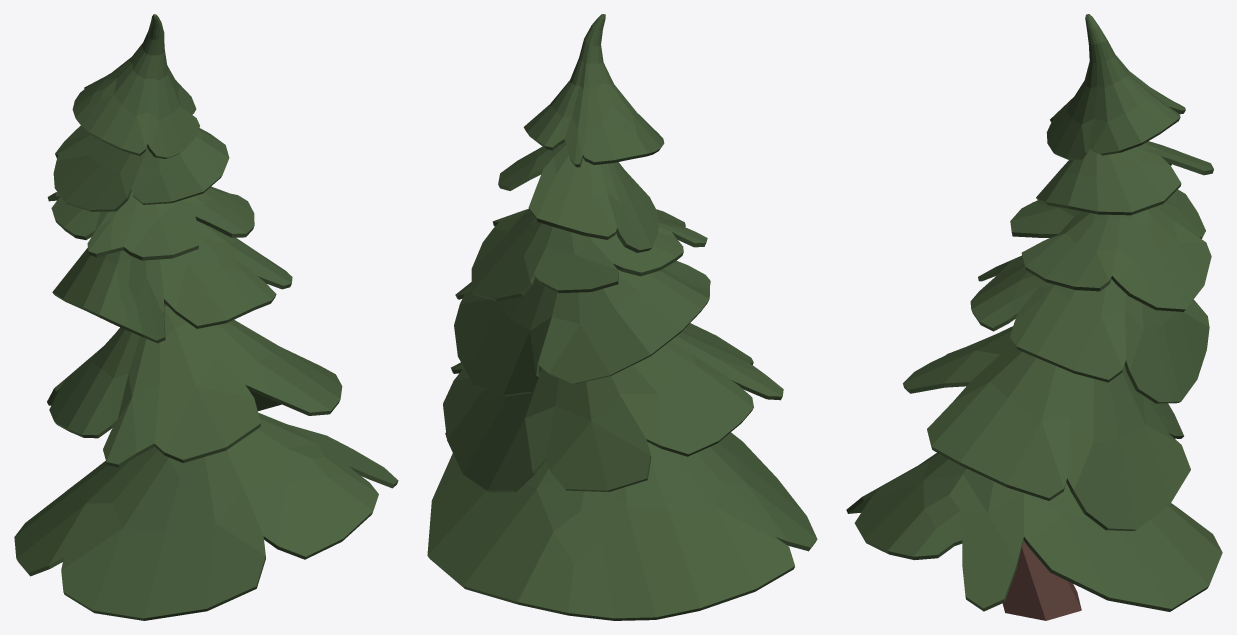
Rendered from pine-3.glb.
3 renders of one model, left to right at view 1: azimuth 30°, elevation 25°; view 2: azimuth 150°, elevation 25°; view 3: azimuth 270°, elevation 25°, orthographic. The views are drawn at different scales.
Parts seen in each view (by area): view 1: PineTree_3; view 2: PineTree_3; view 3: PineTree_3.
Part boxes in pixels (bbox=[...]): PineTree_3: bbox=[14, 14, 398, 620]; PineTree_3: bbox=[427, 14, 817, 620]; PineTree_3: bbox=[846, 14, 1222, 620].
Bounding box in the file's own units: 2.16 × 3.3 × 1.95.
